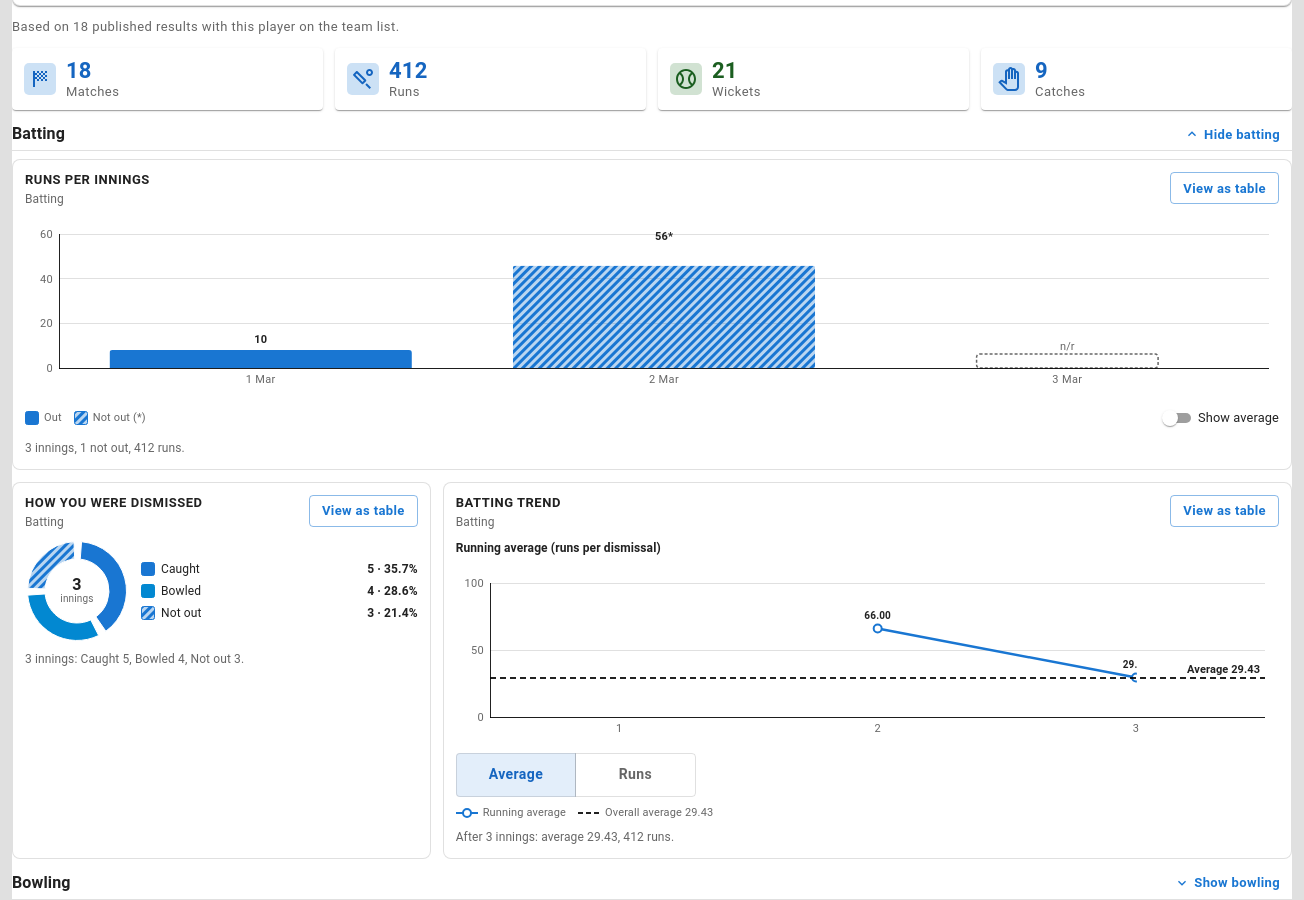
it: Player Overview tab › layout › expanding Bowling draws its three cards in order and sets aria-expanded; collapsing removes them again
The image size is (1304, 900).
(page scrolled)
Expected: the element with test id "dashboard-card-runs-per-innings" is shown, top-left (12, 159), bottom-right (1292, 470)
Click the button with test id "dashboard-group-bowling-toggle" at (1227, 883), box top-left (1162, 867), bottom-right (1292, 899)
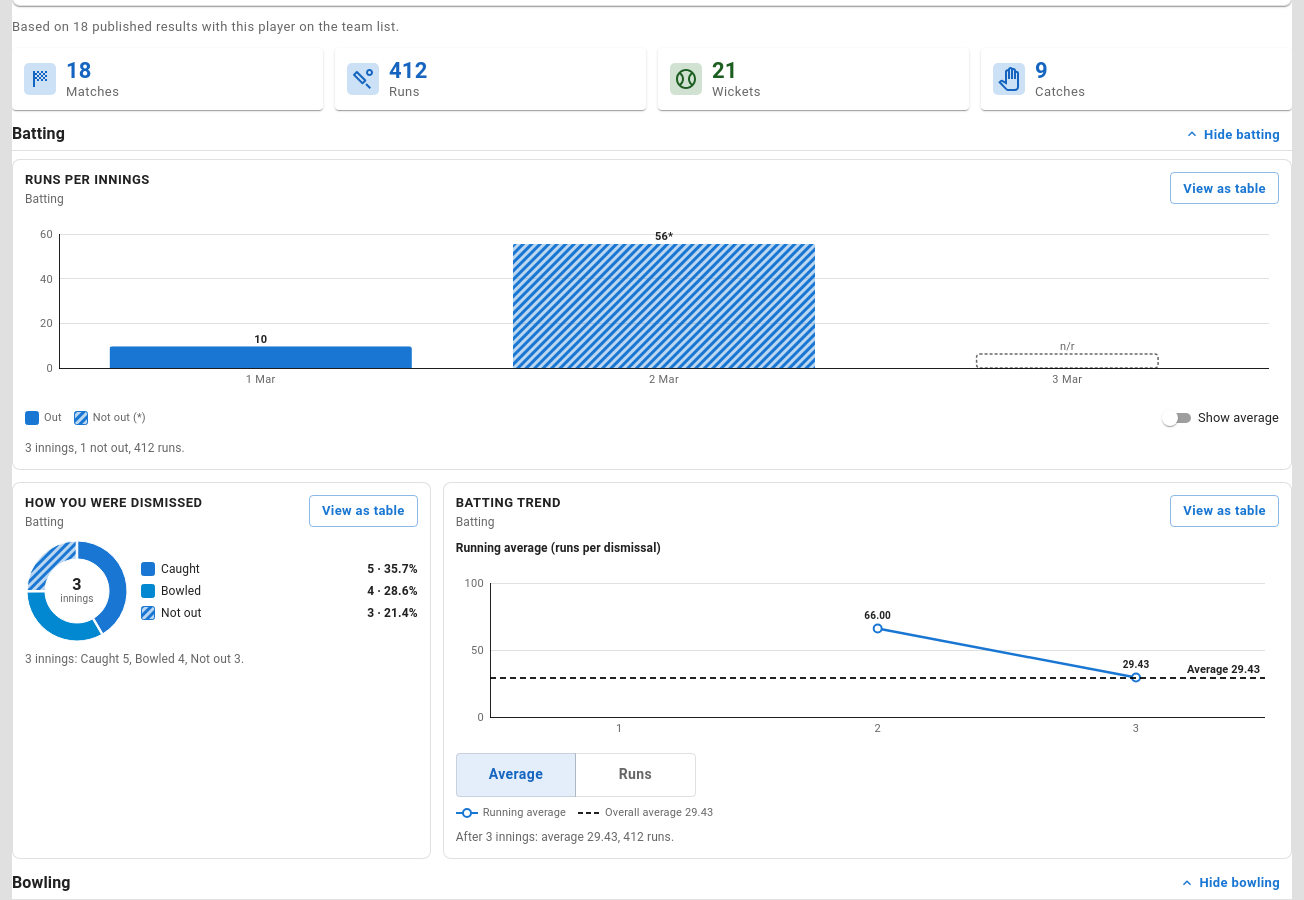
Expected: the button with test id "dashboard-group-bowling-toggle" is expanded
Expected: the button with test id "dashboard-group-bowling-toggle" reads "Hide bowling"
Click the button with test id "dashboard-group-bowling-toggle" at (1230, 883), box top-left (1168, 867), bottom-right (1292, 899)
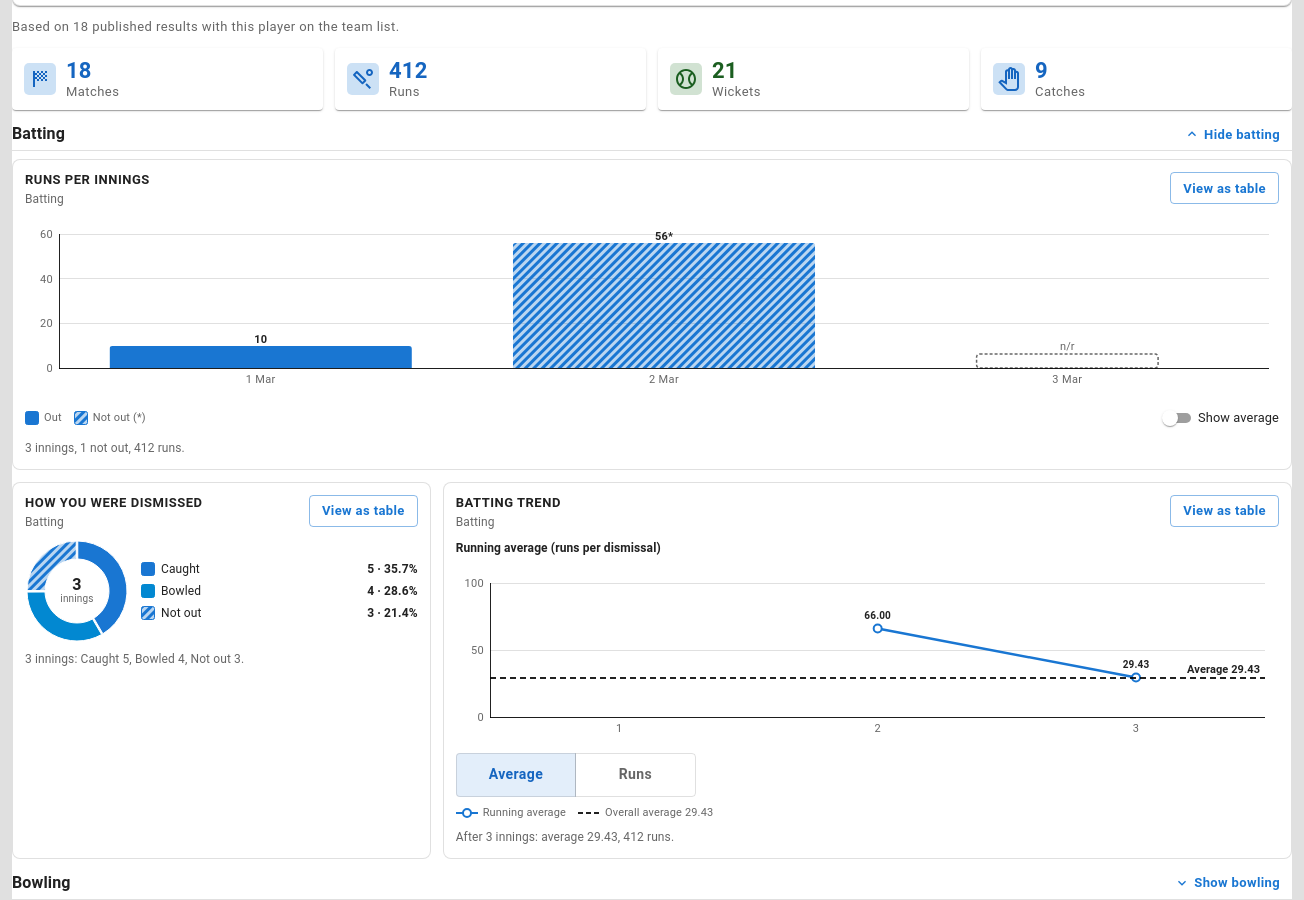
Expected: the element with test id "dashboard-card-runs-per-innings" is shown, top-left (12, 159), bottom-right (1292, 470)
Expected: the button with test id "dashboard-group-bowling-toggle" is collapsed, top-left (1162, 867), bottom-right (1292, 899)
